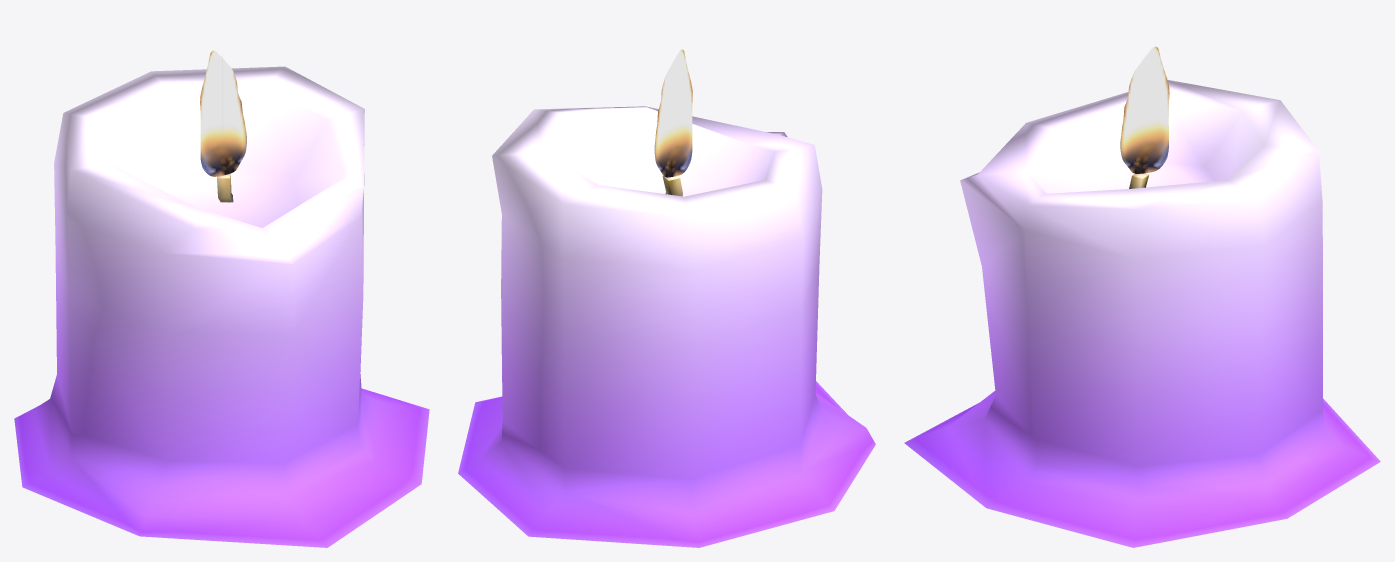
File: CandleShapeC.024.glb
The picture shows the model from 3 angles, left to right: view 1: azimuth 30°, elevation 25°; view 2: azimuth 150°, elevation 25°; view 3: azimuth 270°, elevation 25°; orthographic projection.
Visible parts, largest first — view 1: CandleShapeC.024; view 2: CandleShapeC.024; view 3: CandleShapeC.024.
Boxes of the visible parts, x1,y1,x2,y2 form: CandleShapeC.024: [14, 50, 429, 547]; CandleShapeC.024: [458, 49, 875, 547]; CandleShapeC.024: [904, 46, 1380, 547].
Size of the model in its own units: 0.1734 by 0.1799 by 0.1889.
Materials: 2 (2 with a texture image).
